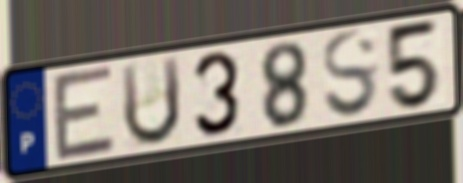3: (189, 47, 246, 141)
5: (385, 14, 446, 114)
8: (255, 38, 310, 131)
E: (50, 61, 119, 165)
S: (319, 27, 381, 122)
U: (117, 52, 183, 151)
